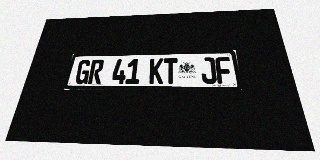1: (125, 59, 141, 84)
4: (111, 59, 127, 84)
F: (215, 57, 233, 84)
G: (74, 60, 92, 84)
J: (200, 57, 217, 84)
K: (149, 58, 163, 84)
R: (87, 59, 105, 84)
T: (163, 58, 178, 84)
